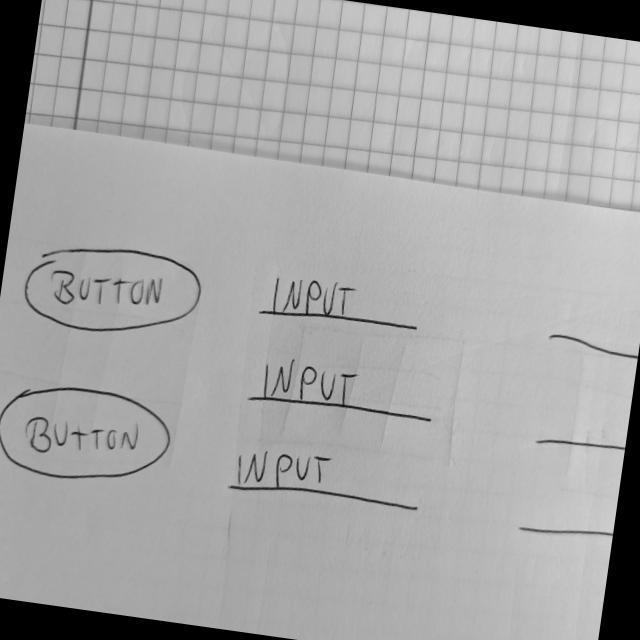button: (1, 373, 183, 497), (18, 234, 209, 350)
input: (225, 436, 432, 522), (244, 351, 445, 436), (257, 264, 427, 345)
select: (528, 387, 633, 466), (510, 482, 620, 552), (543, 294, 640, 367)
